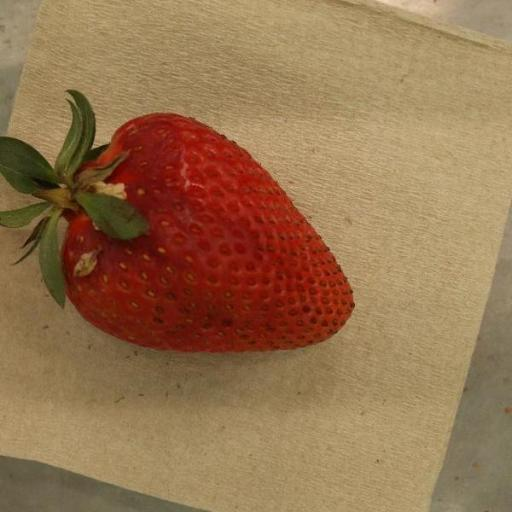Strawberry: (0, 90, 355, 354)
